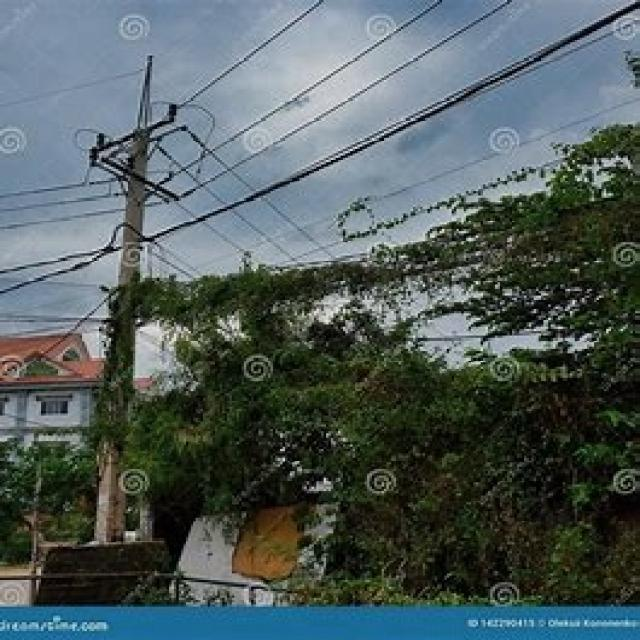critical vegetation: (122, 221, 632, 388)
